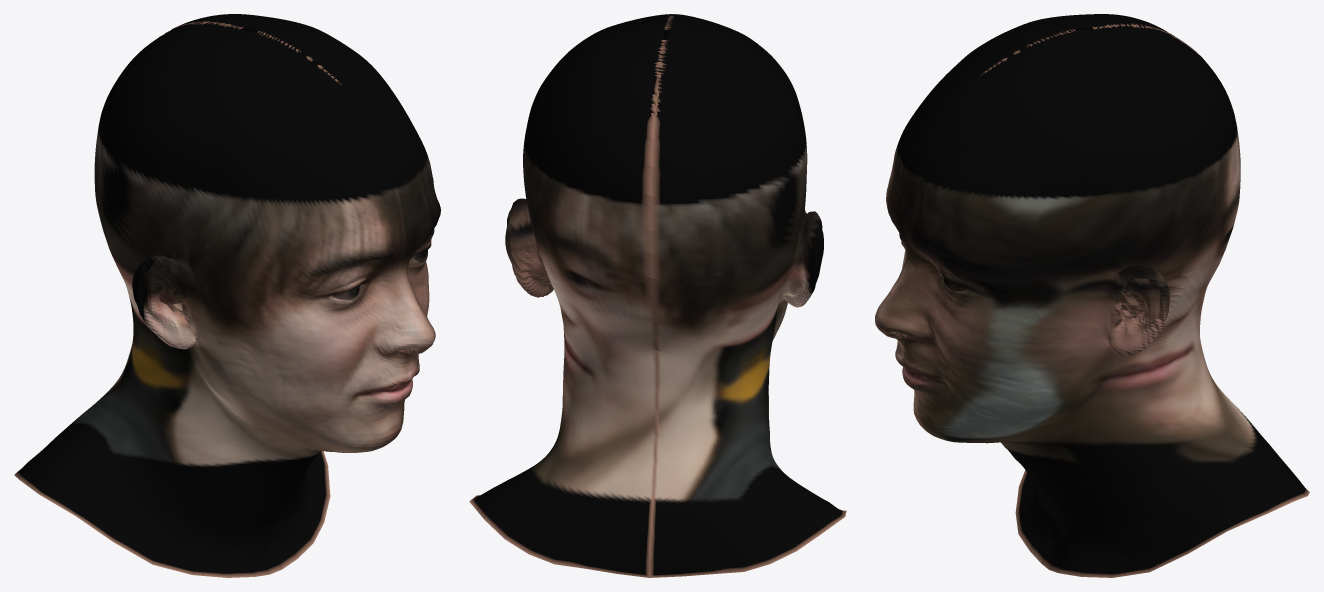
File: mesh_coarse_detail.obj
3 renders of one model, left to right at view 1: azimuth 30°, elevation 25°; view 2: azimuth 150°, elevation 25°; view 3: azimuth 270°, elevation 25°, orthographic.
Size of the model in its own units: 0.2132 by 0.3275 by 0.2436.
